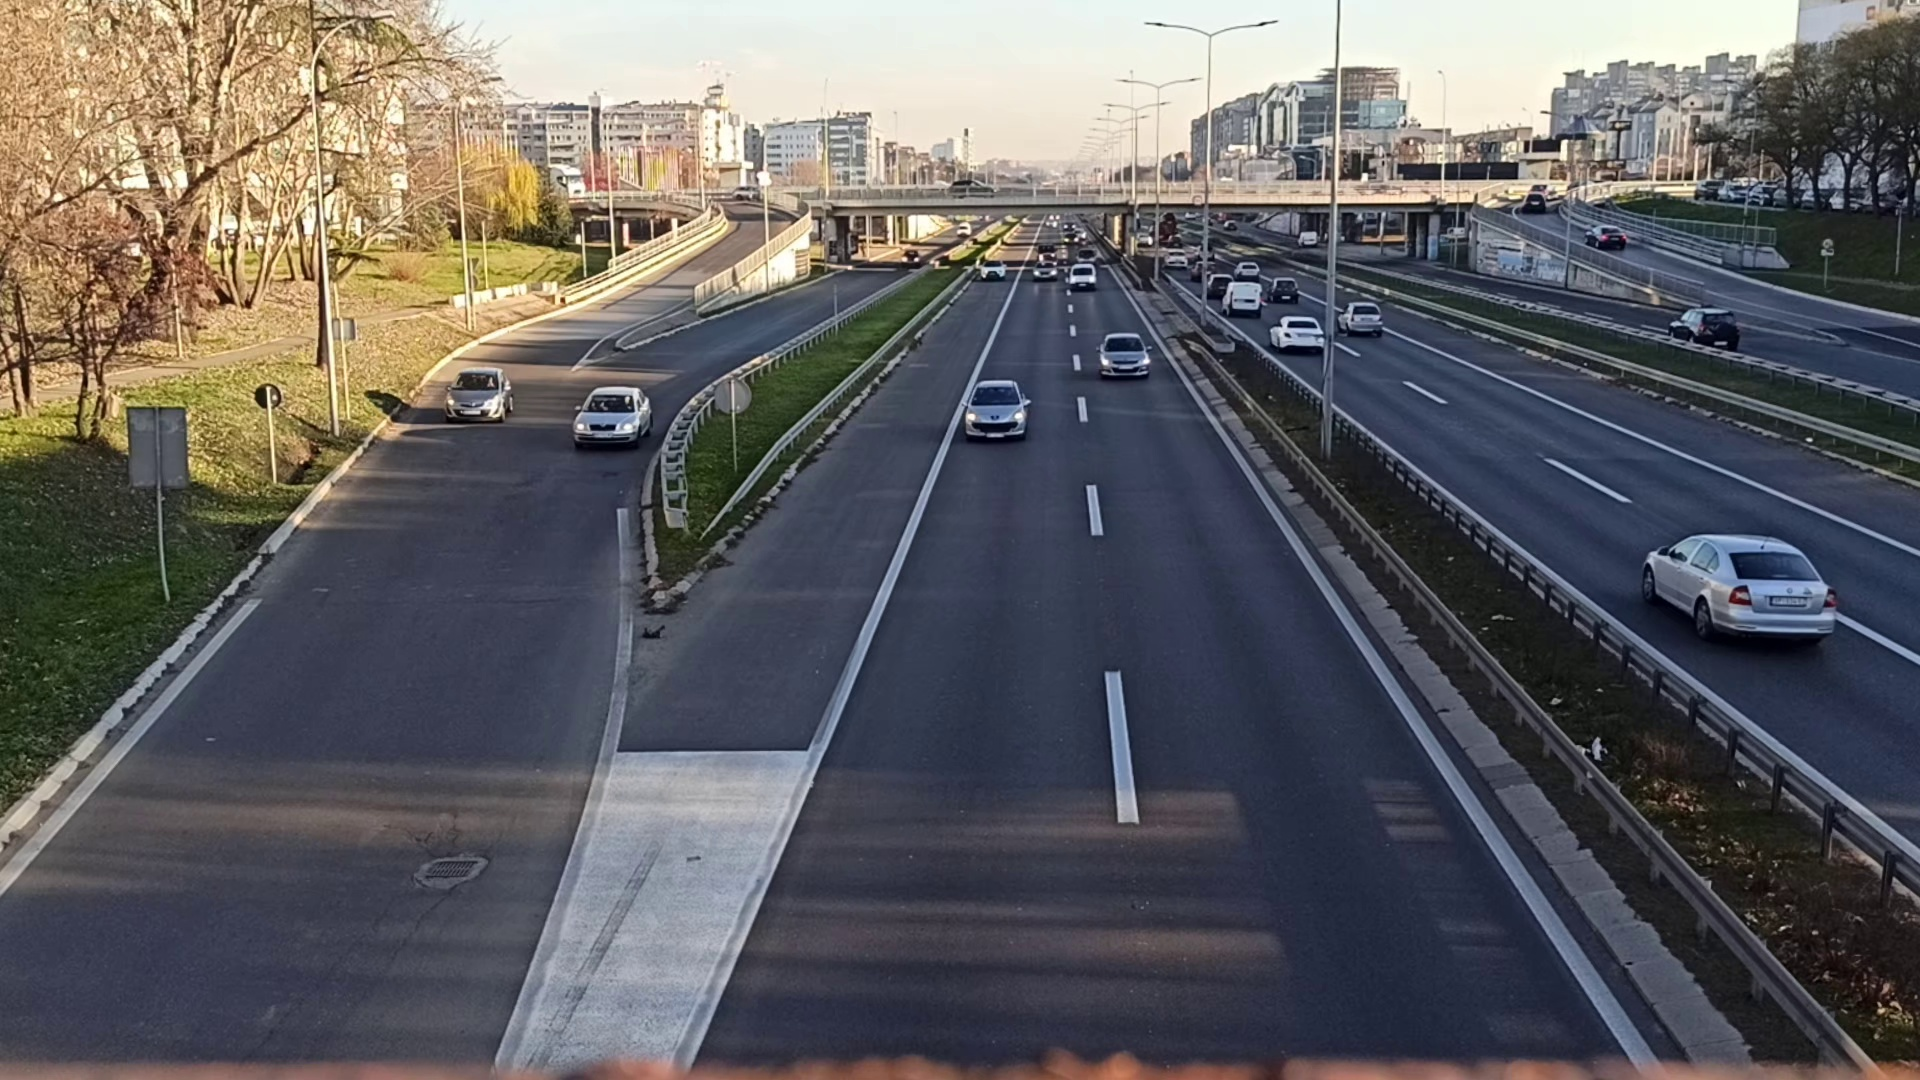car: (1644, 527, 1838, 651), (574, 380, 653, 451), (963, 378, 1033, 444), (444, 364, 516, 419), (1097, 334, 1153, 384), (1270, 314, 1325, 353)
